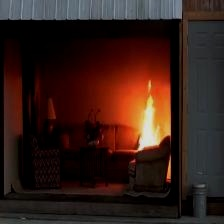fire: (134, 78, 171, 141)
